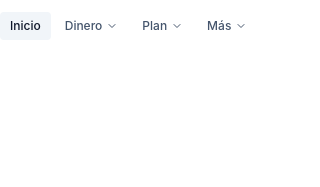
DesktopNav (TC-C-010 … TC-C-033) › TC-C-013: opens money dropdown on click
The width and height of the screenshot is (320, 187).
Step 1. Click the button "Dinero" → (92,26), box x1=55 y1=12 x2=128 y2=40
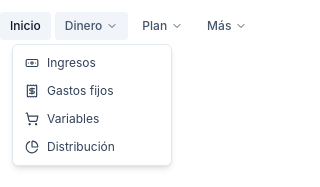
Check: the menu with test id "nav-dropdown-money" is shown, box x1=12 y1=44 x2=172 y2=166
Check: the menu item "Ingresos" is shown, box x1=25 y1=55 x2=96 y2=70
